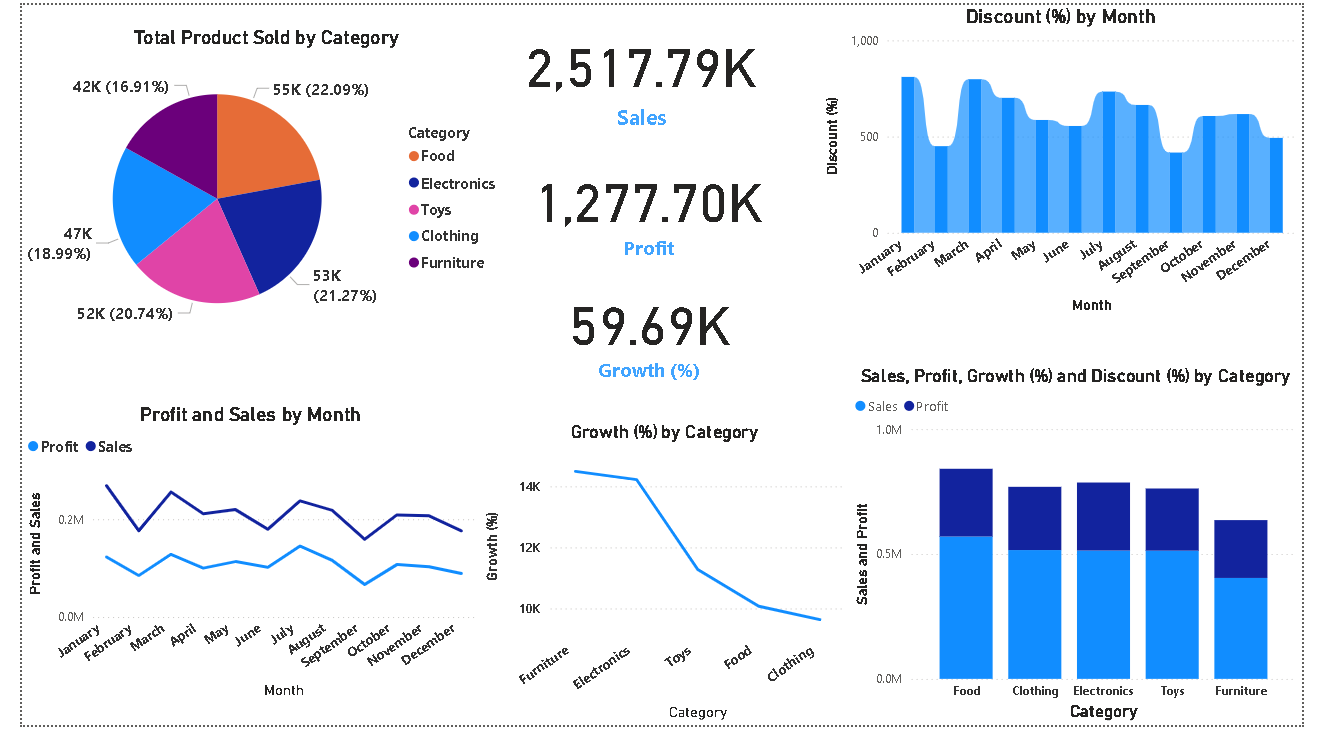

The page's visual inventory and layout, read from the dashboard file:
{"tool":"powerbi","page":{"name":"Page 1","canvas":[1280,720],"ordinal":0},"visuals":[{"type":"card","fields":{"Values":["Sum(Sales_Financial_Dataset (2).Sales)"]},"box":[488.8,0,261.2,143.8],"z":1000},{"type":"card","fields":{"Values":["Sum(Sales_Financial_Dataset (2).Profit)"]},"box":[503.8,132.5,246.2,143.8],"z":2000},{"type":"card","fields":{"Values":["Sum(Sales_Financial_Dataset (2).Growth (%))"]},"box":[526.2,255,202.5,143.8],"z":3000},{"type":"lineChart","fields":{"Category":["Sales_Financial_Dataset (2).Date.Variation.Date Hierarchy.Month"],"Y":["Sum(Sales_Financial_Dataset (2).Profit)","Sum(Sales_Financial_Dataset (2).Sales)"]},"box":[0,398.8,457.5,298.8],"z":4000},{"type":"columnChart","fields":{"Category":["Sales_Financial_Dataset (2).Category"],"Y":["Sum(Sales_Financial_Dataset (2).Sales)","Sum(Sales_Financial_Dataset (2).Profit)"]},"box":[827.5,360,452.5,360],"z":4001},{"type":"lineChart","fields":{"Y":["Sum(Sales_Financial_Dataset (2).Growth (%))"],"Category":["Sales_Financial_Dataset (2).Category"]},"box":[457.5,416.2,370,303.8],"z":4002},{"type":"pieChart","fields":{"Y":["Sum(Sales_Financial_Dataset (2).Total Product Sold)"],"Category":["Sales_Financial_Dataset (2).Category"]},"box":[0,21.2,488.8,323.8],"z":4003},{"type":"ribbonChart","fields":{"Y":["Sum(Sales_Financial_Dataset (2).Discount (%))"],"Category":["Sales_Financial_Dataset (2).Date.Variation.Date Hierarchy.Month"]},"box":[797.5,0,482.5,313.8],"z":4004}]}

Visuals, with their boxes in screenshot pixels (x1, y1, x2, y2), scaled from the page's 1280x720 canvas onto the 1317x733 screenshot:
card - Sum(Sales_Financial_Dataset (2).Sales): pyautogui.locateOnScreen(503, 0, 772, 146)
card - Sum(Sales_Financial_Dataset (2).Profit): pyautogui.locateOnScreen(518, 135, 772, 281)
card - Sum(Sales_Financial_Dataset (2).Growth (%)): pyautogui.locateOnScreen(541, 260, 750, 406)
lineChart - Sales_Financial_Dataset (2).Date.Variation.Date Hierarchy.Month x Sum(Sales_Financial_Dataset (2).Profit): pyautogui.locateOnScreen(0, 406, 471, 710)
columnChart - Sales_Financial_Dataset (2).Category x Sum(Sales_Financial_Dataset (2).Sales): pyautogui.locateOnScreen(851, 366, 1316, 732)
lineChart - Sum(Sales_Financial_Dataset (2).Growth (%)) x Sales_Financial_Dataset (2).Category: pyautogui.locateOnScreen(471, 424, 851, 732)
pieChart - Sum(Sales_Financial_Dataset (2).Total Product Sold) x Sales_Financial_Dataset (2).Category: pyautogui.locateOnScreen(0, 22, 503, 351)
ribbonChart - Sum(Sales_Financial_Dataset (2).Discount (%)) x Sales_Financial_Dataset (2).Date.Variation.Date Hierarchy.Month: pyautogui.locateOnScreen(821, 0, 1316, 319)
